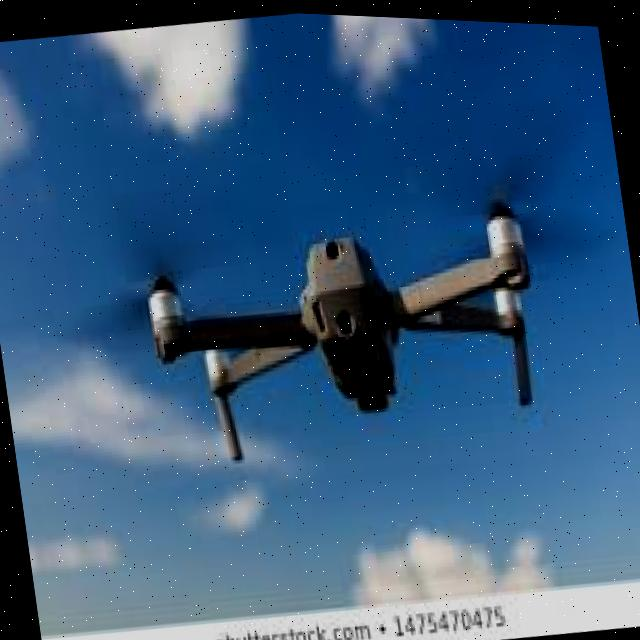drone: (56, 113, 608, 492)
